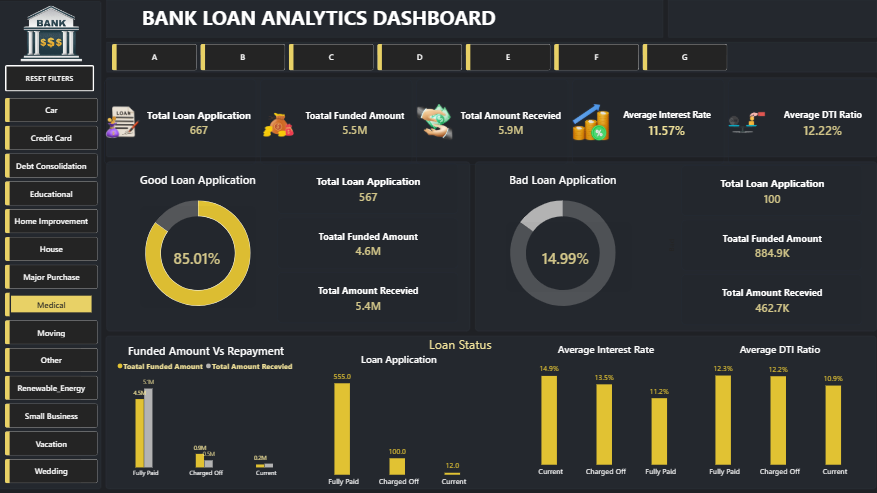

Layout of this report page (visuals, bound fields, positions):
{"tool":"powerbi","page":{"name":"SUMMARY","canvas":[1920,1080],"ordinal":0},"visuals":[{"type":"cardVisual","fields":{"Data":["financial_loan.Total Loan Application","financial_loan.Toatal Funded Amount","financial_loan.Total Amount of Recevied","financial_loan.Average Interest Rate","financial_loan.Average DTI Rate"]},"box":[239.8,179.3,1680.5,185.8],"z":0},{"type":"donutChart","title":"Good Loan Application","fields":{"Category":["financial_loan.Good_vs_Bad_Loan"],"Y":["financial_loan.Total Loan Application"]},"box":[273.1,365.1,340.7,348.8],"z":1000},{"type":"donutChart","title":"Bad Loan Application","fields":{"Category":["financial_loan.Good_vs_Bad_Loan"],"Y":["financial_loan.Total Loan Application"]},"box":[1060.1,365.1,340.7,348.8],"z":2000},{"type":"cardVisual","fields":{"Data":["financial_loan.Good Loan %"]},"box":[316.7,453.7,251.9,220.4],"z":3000},{"type":"cardVisual","fields":{"Data":["financial_loan.Bad Loan %"]},"box":[1107.4,488.9,272.2,151.9],"z":4000},{"type":"cardVisual","fields":{"Data":["financial_loan.Total Loan Application","financial_loan.Toatal Funded Amount","financial_loan.Total Amount of Recevied"],"Rows":["financial_loan.Good_vs_Bad_Loan"]},"box":[580,360,423.3,346.7],"z":5000},{"type":"cardVisual","fields":{"Data":["financial_loan.Total Loan Application","financial_loan.Toatal Funded Amount","financial_loan.Total Amount of Recevied"],"Rows":["financial_loan.Good_vs_Bad_Loan"]},"box":[1453.7,365,423.4,347.8],"z":6000},{"type":"clusteredColumnChart","title":" Funded Amount Vs Repayment","fields":{"Category":["financial_loan.LOAN_STATUS"],"Y":["financial_loan.Toatal Funded Amount","financial_loan.Total Amount Recevied"]},"box":[238.9,733.3,440.7,325.9],"z":7000},{"type":"clusteredColumnChart","title":"Loan Application","fields":{"Category":["financial_loan.LOAN_STATUS"],"Y":["financial_loan.Total Loan Application"]},"box":[674.1,755.6,405.6,324.1],"z":8000},{"type":"textbox","box":[940.7,733.3,138.9,38.9],"z":9000},{"type":"clusteredColumnChart","title":"Average Interest Rate","fields":{"Category":["financial_loan.LOAN_STATUS"],"Y":["financial_loan.Average Interest Rate"]},"box":[1120.4,735.2,405.6,324.1],"z":10000},{"type":"clusteredColumnChart","title":"Average DTI Ratio","fields":{"Category":["financial_loan.LOAN_STATUS"],"Y":["financial_loan.Average DTI Ratio"]},"box":[1496.3,735.2,405.6,324.1],"z":11000},{"type":"image","box":[31.5,0,187,161.1],"z":12000},{"type":"advancedSlicerVisual","fields":{"Values":["financial_loan.PURPOSE"]},"box":[25.9,220.4,200,838.9],"z":13000},{"type":"advancedSlicerVisual","fields":{"Values":["financial_loan.GRADE"]},"box":[257.4,103.7,1331.5,57.4],"z":14000},{"type":"actionButton","box":[25.9,148.1,192.6,57.4],"z":15000},{"type":"textbox","box":[257.4,16.7,892.6,64.8],"z":16000}]}

Visuals, with their boxes in screenshot pixels (x1, y1, x2, y2), scaled from the page's 1920x1080 canvas onto the 877x493 screenshot:
cardVisual - financial_loan.Total Loan Application x financial_loan.Toatal Funded Amount: crop(110, 82, 876, 167)
"Good Loan Application" donutChart: crop(125, 167, 280, 326)
"Bad Loan Application" donutChart: crop(484, 167, 640, 326)
cardVisual - financial_loan.Good Loan %: crop(145, 207, 260, 308)
cardVisual - financial_loan.Bad Loan %: crop(506, 223, 630, 293)
cardVisual - financial_loan.Total Loan Application x financial_loan.Toatal Funded Amount: crop(265, 164, 458, 323)
cardVisual - financial_loan.Total Loan Application x financial_loan.Toatal Funded Amount: crop(664, 167, 857, 325)
" Funded Amount Vs Repayment" clusteredColumnChart: crop(109, 335, 310, 484)
"Loan Application" clusteredColumnChart: crop(308, 345, 493, 492)
textbox: crop(430, 335, 493, 352)
"Average Interest Rate" clusteredColumnChart: crop(512, 336, 697, 484)
"Average DTI Ratio" clusteredColumnChart: crop(683, 336, 869, 484)
image: crop(14, 0, 100, 74)
advancedSlicerVisual - financial_loan.PURPOSE: crop(12, 101, 103, 484)
advancedSlicerVisual - financial_loan.GRADE: crop(118, 47, 726, 74)
actionButton: crop(12, 68, 100, 94)
textbox: crop(118, 8, 525, 37)
